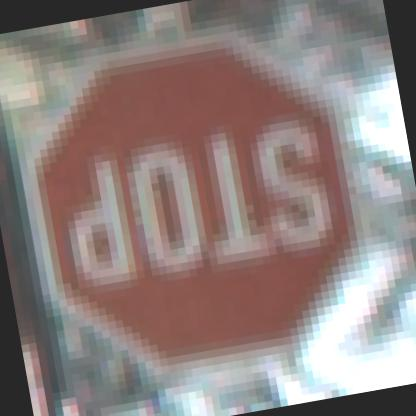stop: (4, 2, 386, 409)
